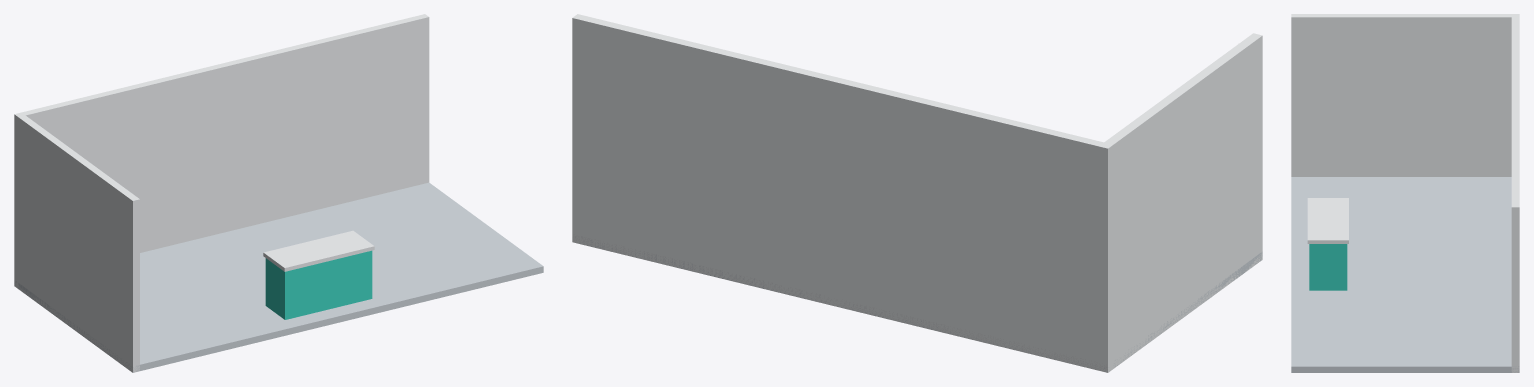
3 views of the same model, side by side, from view 1: azimuth 30°, elevation 25°; view 2: azimuth 150°, elevation 25°; view 3: azimuth 270°, elevation 25° (orthographic). The views are drawn at different scales.
Visible parts, largest first — view 1: Exhibition Booth Concept; view 2: Exhibition Booth Concept; view 3: Exhibition Booth Concept.
Part boxes in pixels (x1,y1,x2,y2): Exhibition Booth Concept: (14, 14, 543, 372); Exhibition Booth Concept: (572, 14, 1262, 372); Exhibition Booth Concept: (1291, 14, 1519, 372).
Bounding box in the file's own units: 8 × 3.2 × 4.
